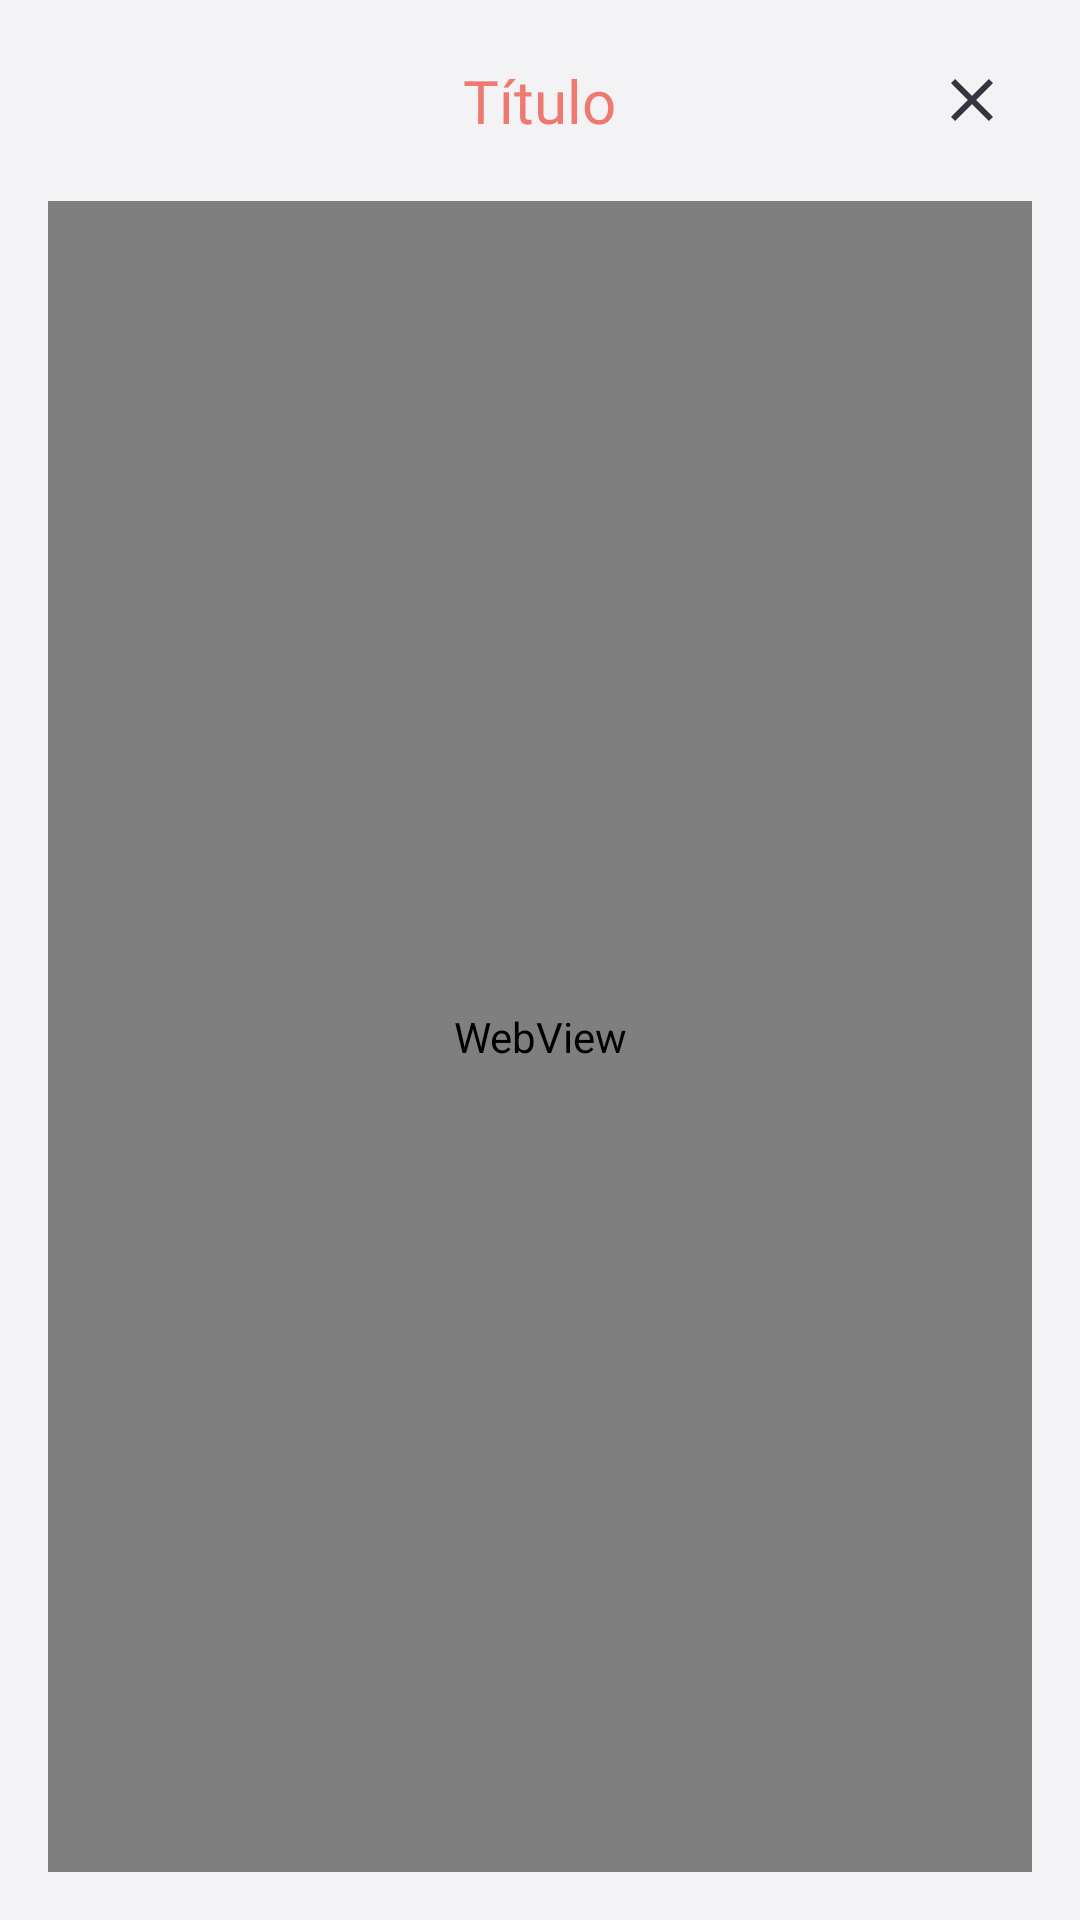

Icon click points for this 1080px x 1920px phone screenshot, format [x,y]:
Cerrar: [972,100]
